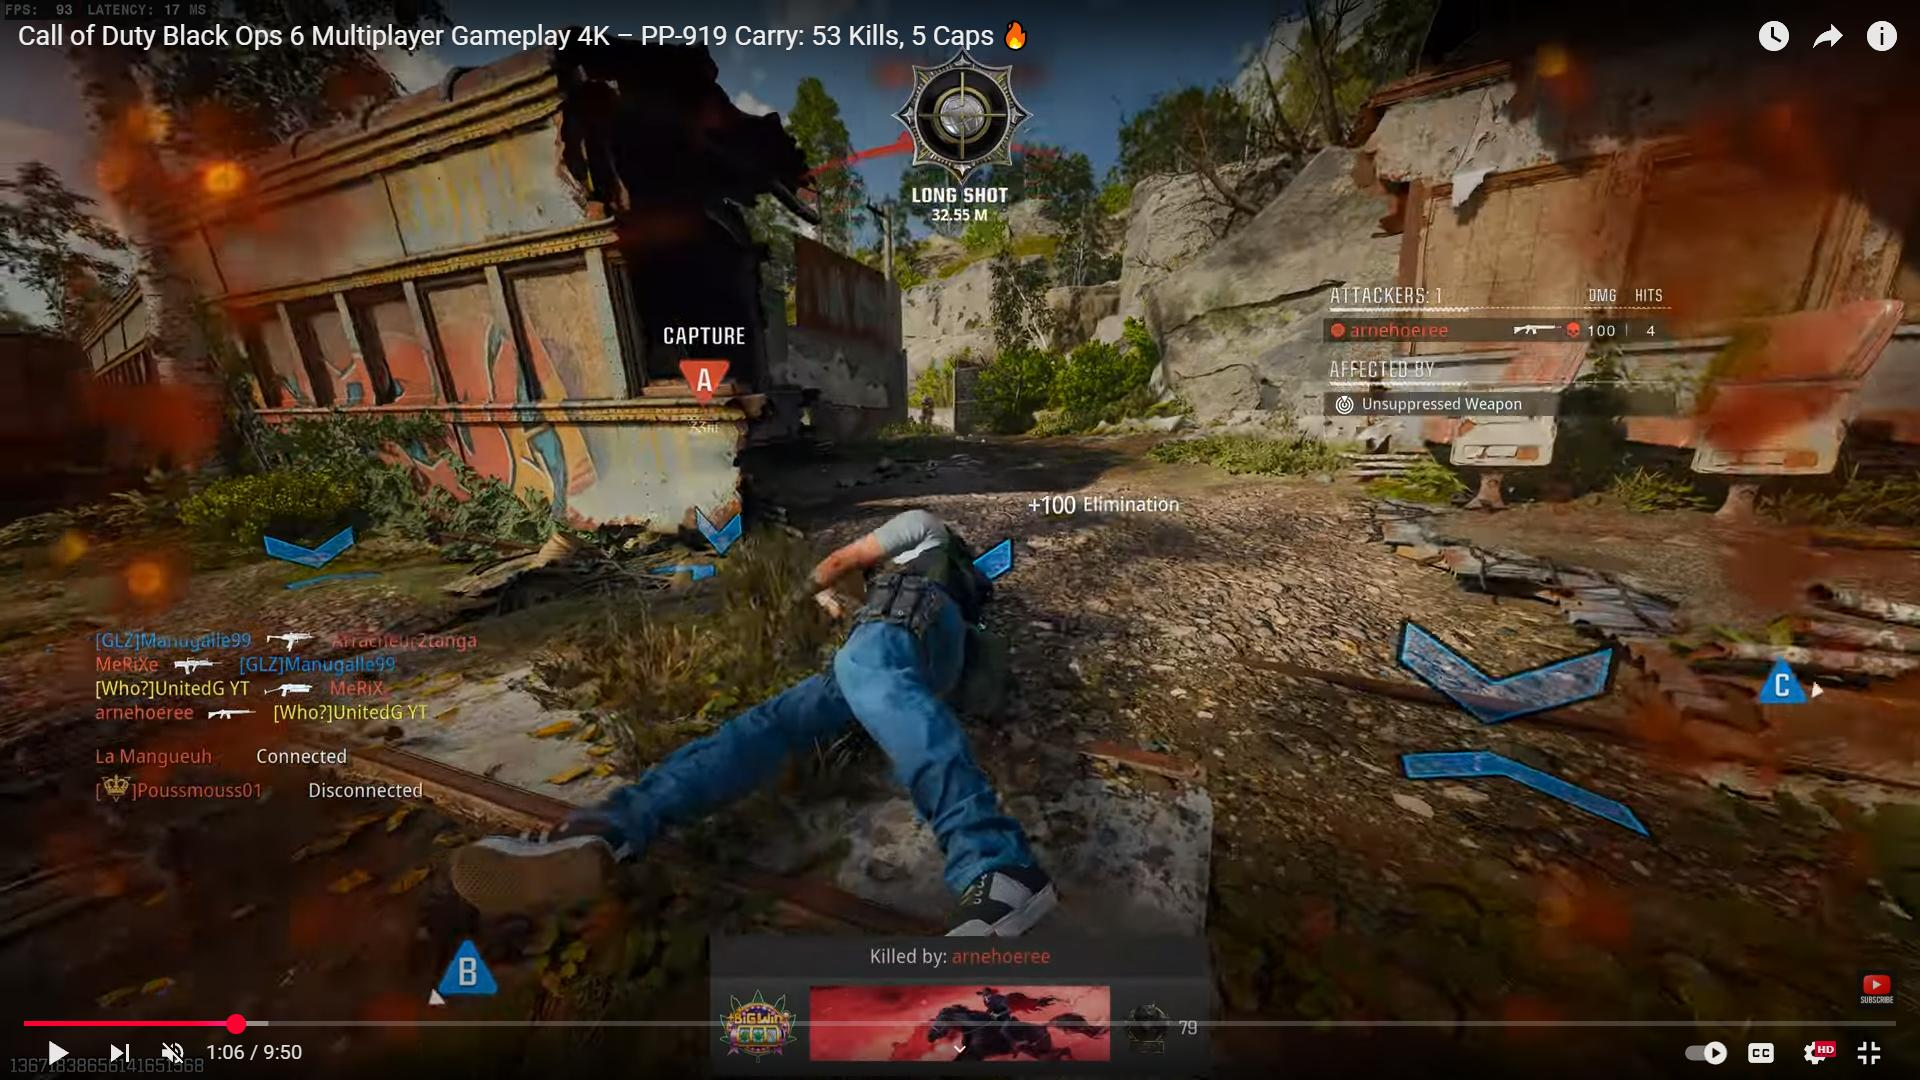Enemy: (911, 388, 942, 431)
